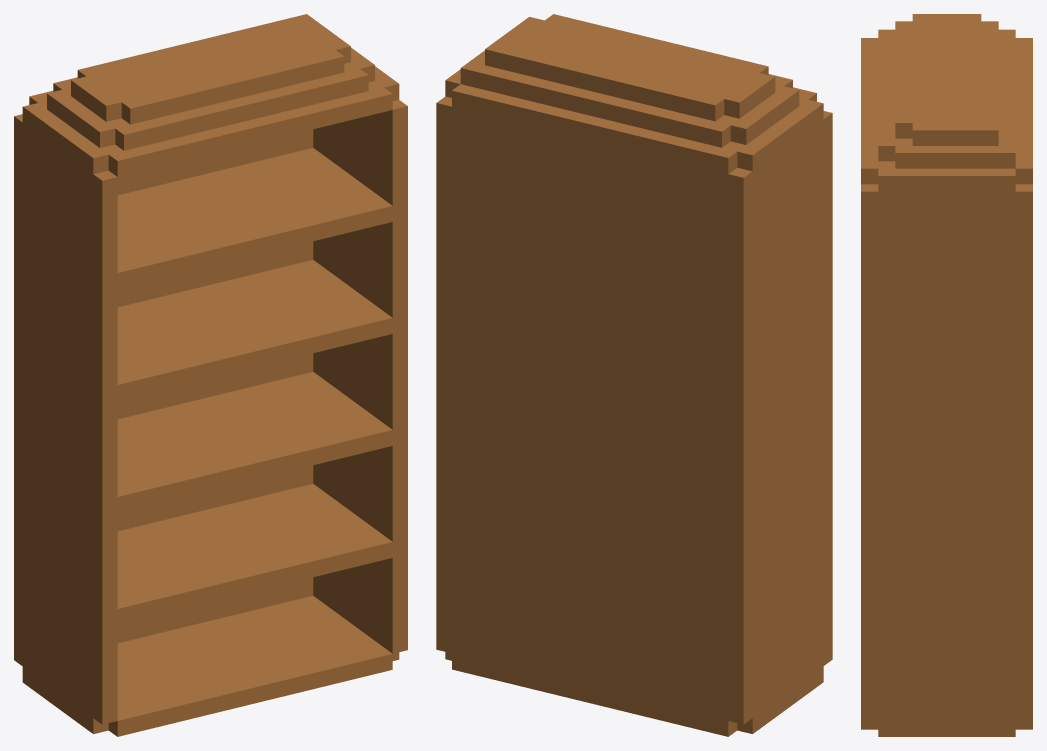
The model's file is Small Bookcase.obj.
The picture shows the model from 3 angles, left to right: view 1: azimuth 30°, elevation 25°; view 2: azimuth 150°, elevation 25°; view 3: azimuth 270°, elevation 25°; orthographic projection. The views are drawn at different scales.
Visible parts, largest first — view 1: Small Bookcase; view 2: Small Bookcase; view 3: Small Bookcase.
Boxes of the visible parts, bbox=[...] form: Small Bookcase: bbox=[14, 14, 407, 736]; Small Bookcase: bbox=[436, 14, 832, 736]; Small Bookcase: bbox=[861, 14, 1032, 736].
Size of the model in its own units: 20 by 38 by 10.
